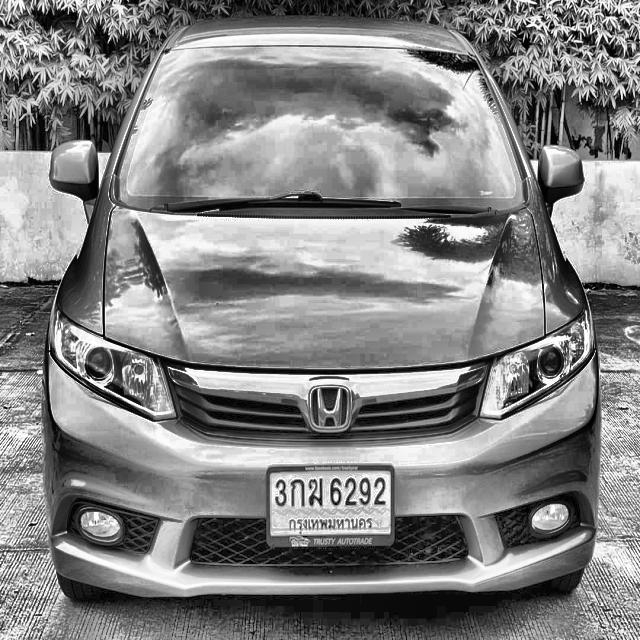license-plate: (265, 462, 394, 552)
